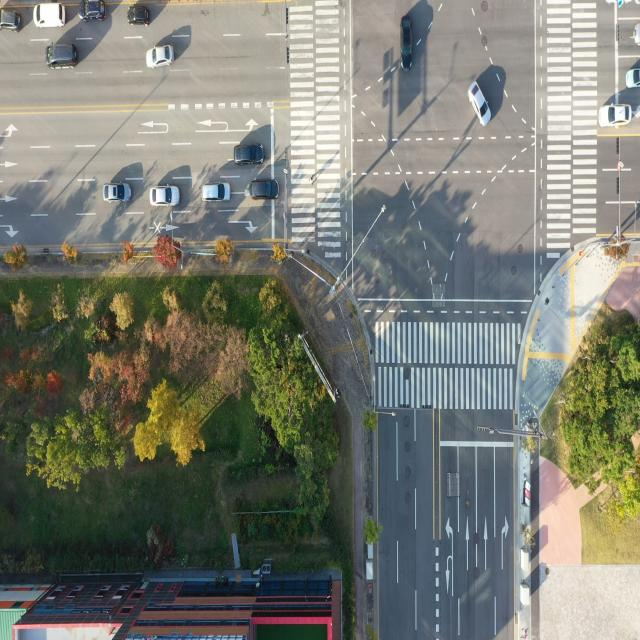car: (468, 78, 492, 125), (398, 11, 416, 73), (44, 40, 76, 72), (30, 0, 65, 27), (599, 104, 630, 128), (234, 143, 264, 167), (78, 0, 106, 25), (200, 180, 230, 203), (146, 44, 174, 68), (150, 187, 178, 209), (103, 182, 130, 204), (250, 179, 278, 200), (128, 3, 150, 27), (622, 64, 640, 90), (1, 8, 22, 30), (632, 23, 640, 53)
